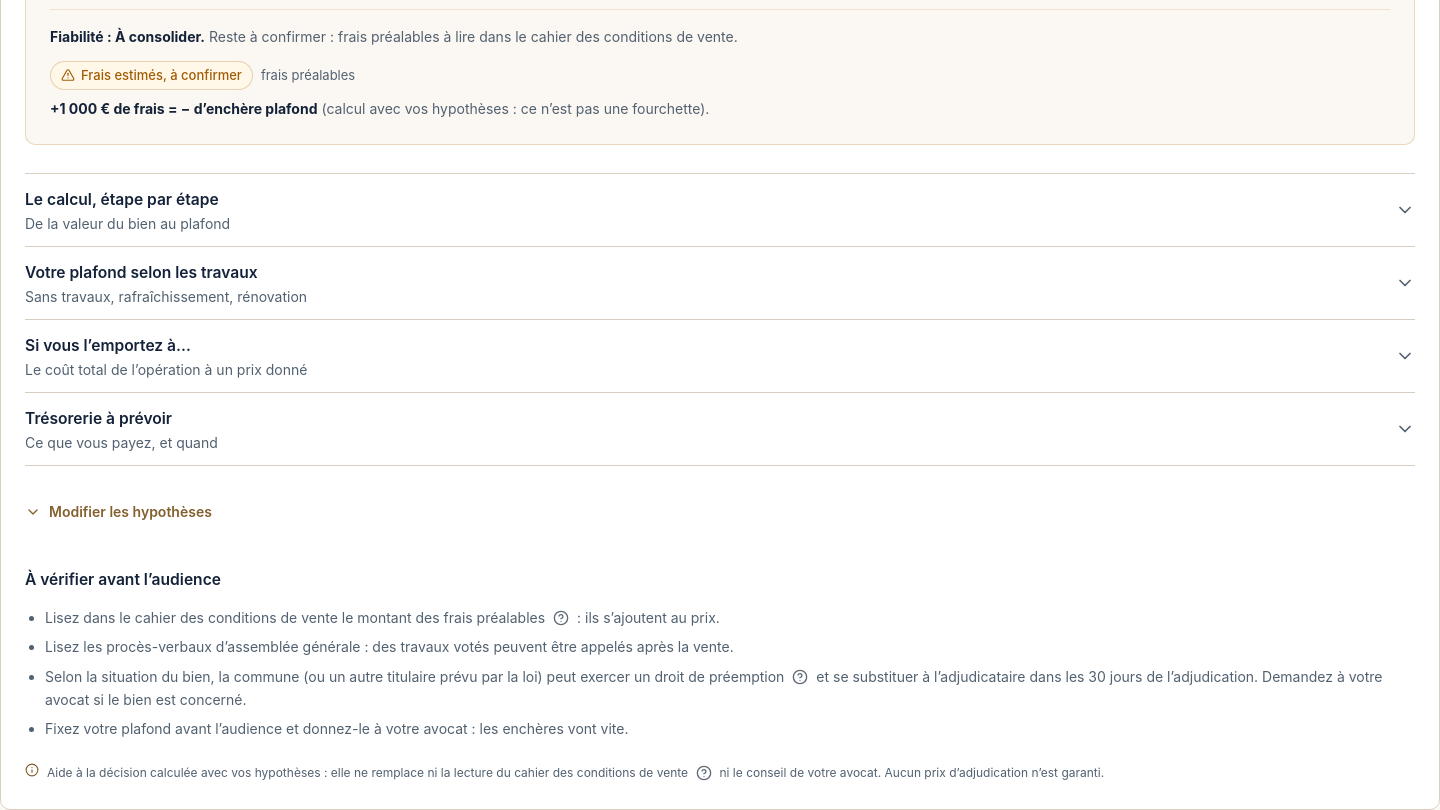
Test case: CeilingPlanner accessibilité › relie le bouton des hypothèses à son panneau
(page scrolled)
Click the button "Modifier les hypothèses" at coordinates (118, 512), box [25,490,212,534]
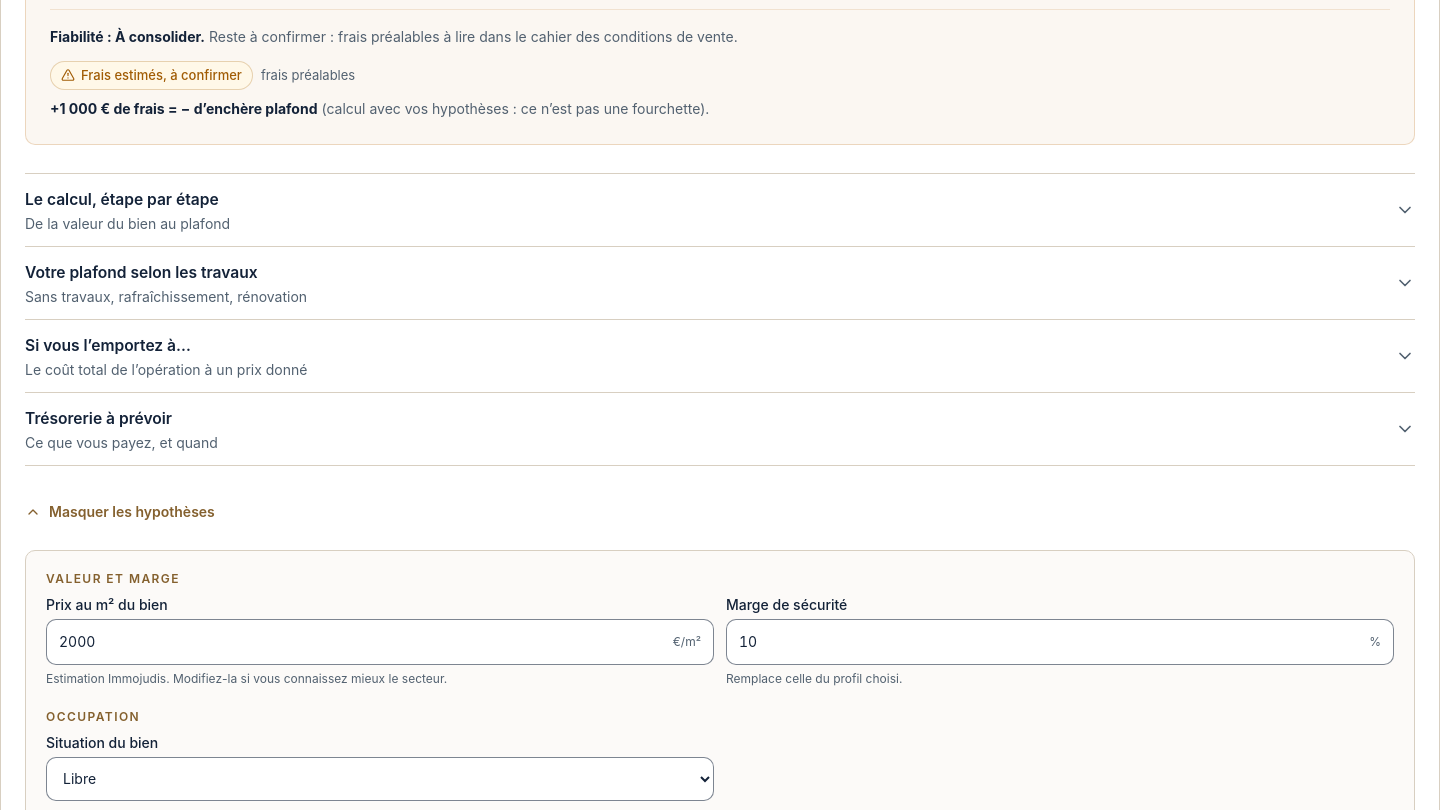
Now the button "Masquer les hypothèses" is expanded, box [25,490,215,534]
